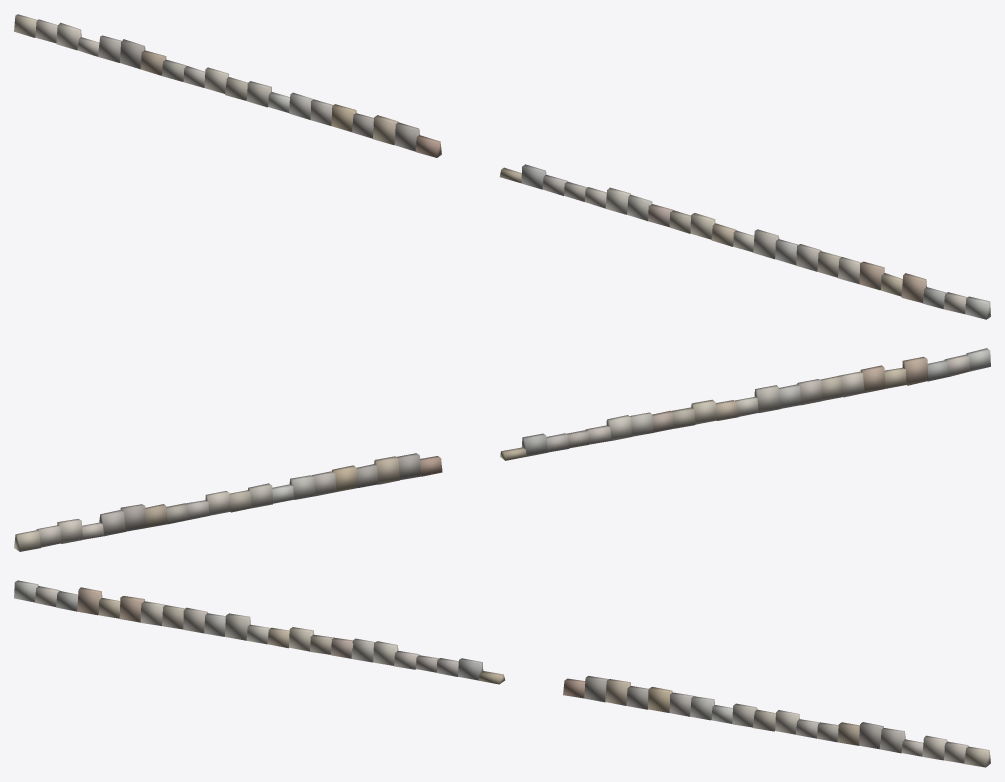
Rendered from farm_11_6_far.glb.
The picture shows the model from 3 angles, top to bottom: view 1: azimuth 90°, elevation 25°; view 2: azimuth 150°, elevation 25°; view 3: azimuth 270°, elevation 25°; orthographic projection.
Visible parts, largest first — view 1: geometry_0; view 2: geometry_0; view 3: geometry_0.
Boxes of the visible parts, <box> form: geometry_0: <box>14,14,990,319</box>; geometry_0: <box>14,348,990,551</box>; geometry_0: <box>14,580,990,767</box>.
Bounding box in the file's own units: 35.59 × 5.41 × 63.22.
